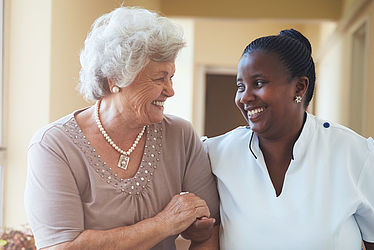without_mask: (228, 47, 298, 138), (113, 38, 184, 126)
